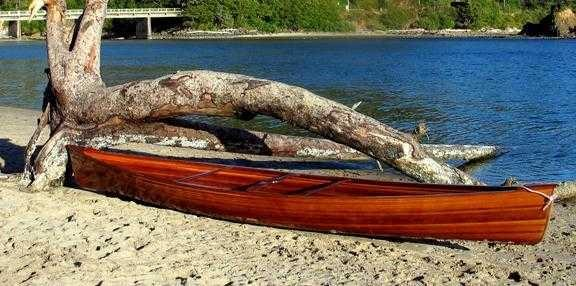kayak: (63, 141, 562, 243)
